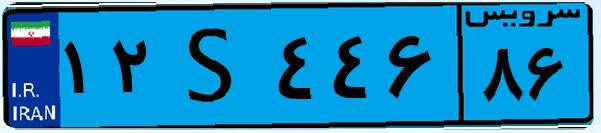1: (57, 26, 110, 100)
2: (110, 28, 158, 98)
4: (270, 28, 330, 110), (330, 28, 385, 110)
6: (385, 28, 445, 110), (525, 38, 570, 115)
8: (475, 38, 525, 113)
S: (158, 12, 270, 120)
